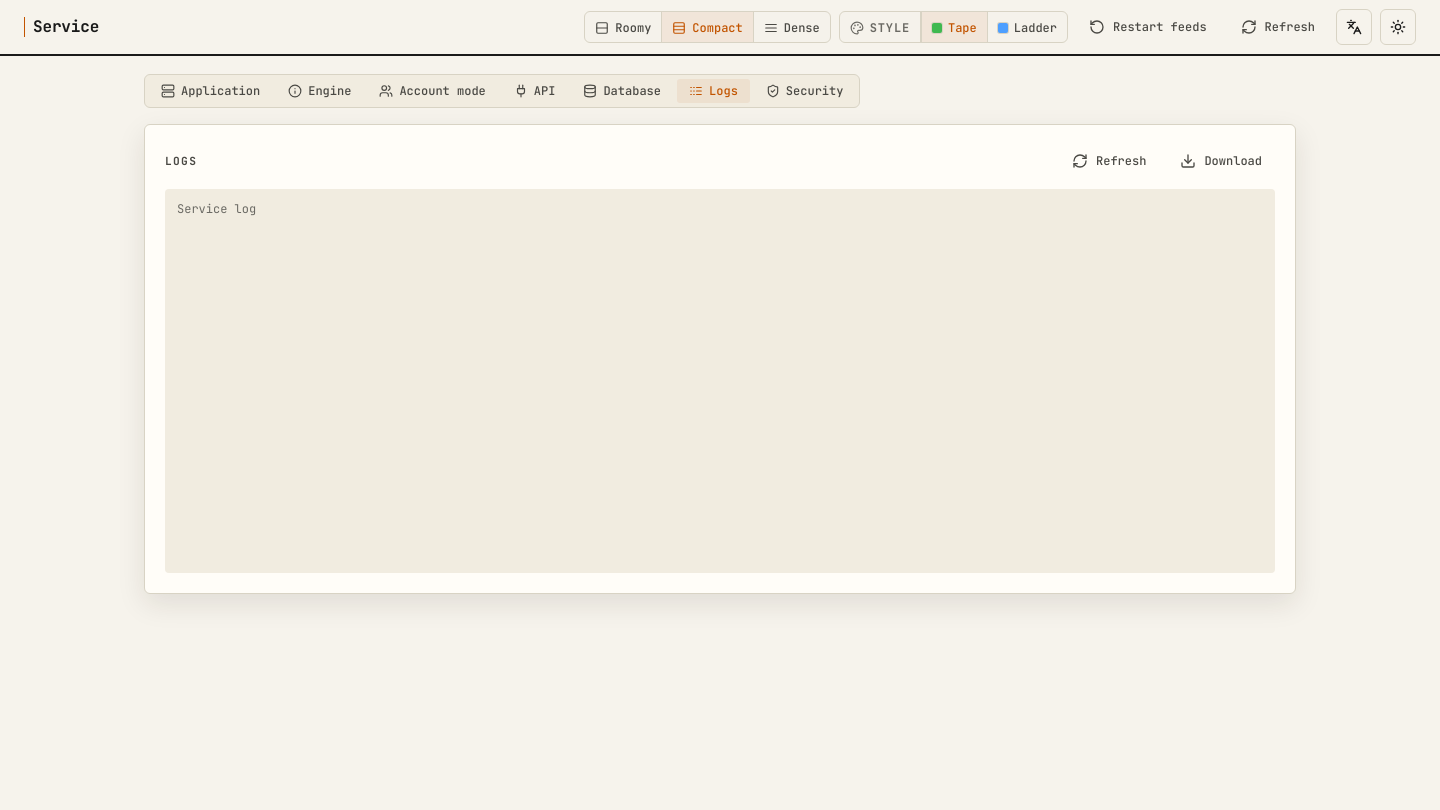
Test case: Service › shows Logs from the hash and clears it when clicking Application
This screenshot has width=1440, height=810.
Check: the panel "Logs" is shown, box x1=144 y1=124 x2=1296 y2=594
Check: the text "Service log" is shown, box x1=165 y1=189 x2=1275 y2=573
Click the tab "Application" at [211, 91], box x1=149 y1=79 x2=272 y2=103
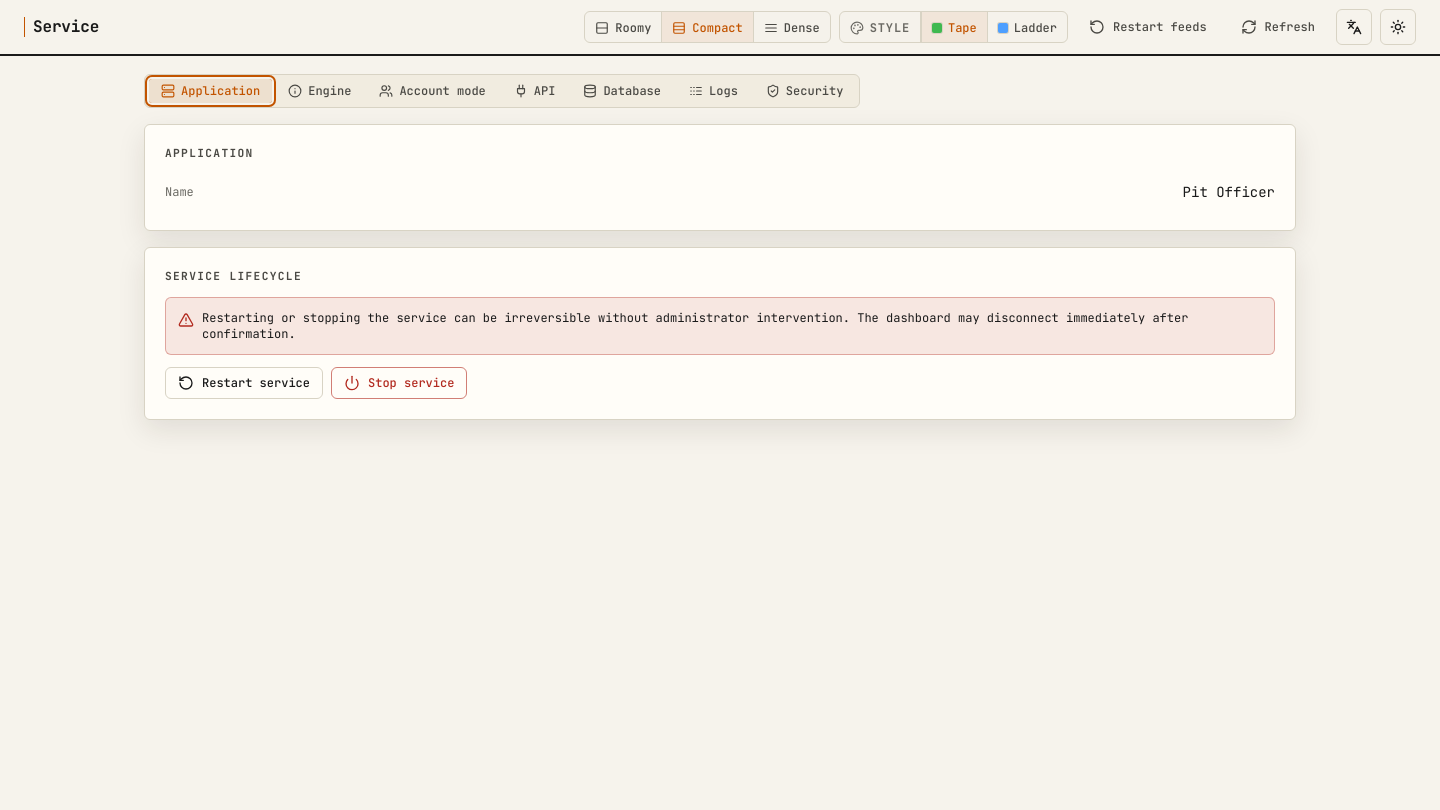
Check: the panel "Application" is shown, box x1=144 y1=124 x2=1296 y2=420
